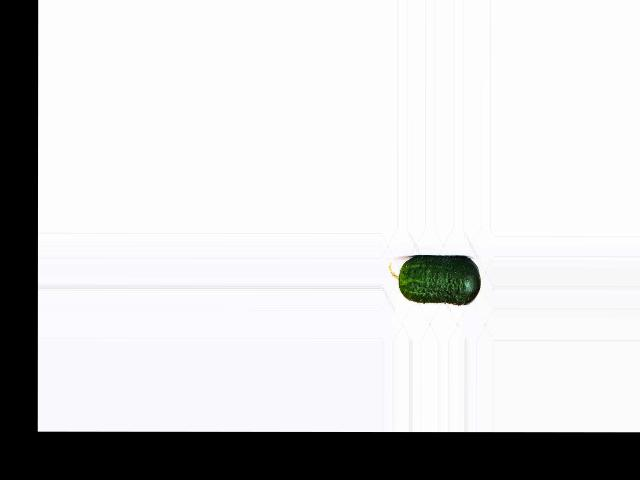cucumber: (388, 255, 480, 304)
